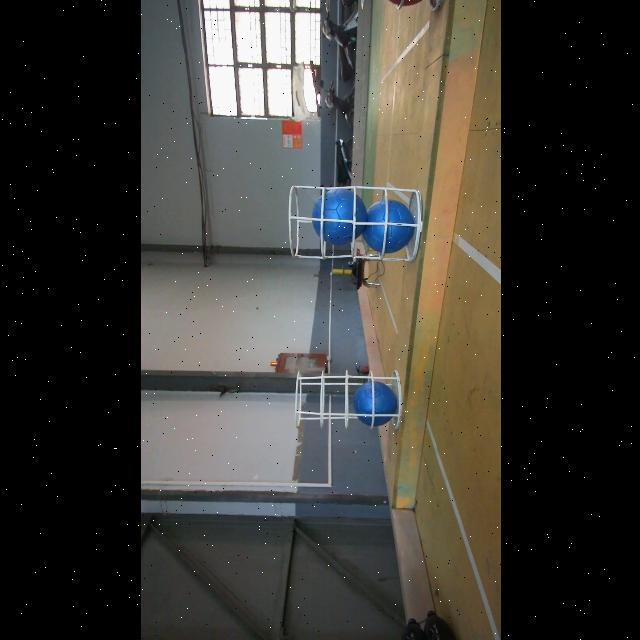B: (311, 190, 365, 246), (362, 199, 414, 253), (351, 381, 399, 425)
